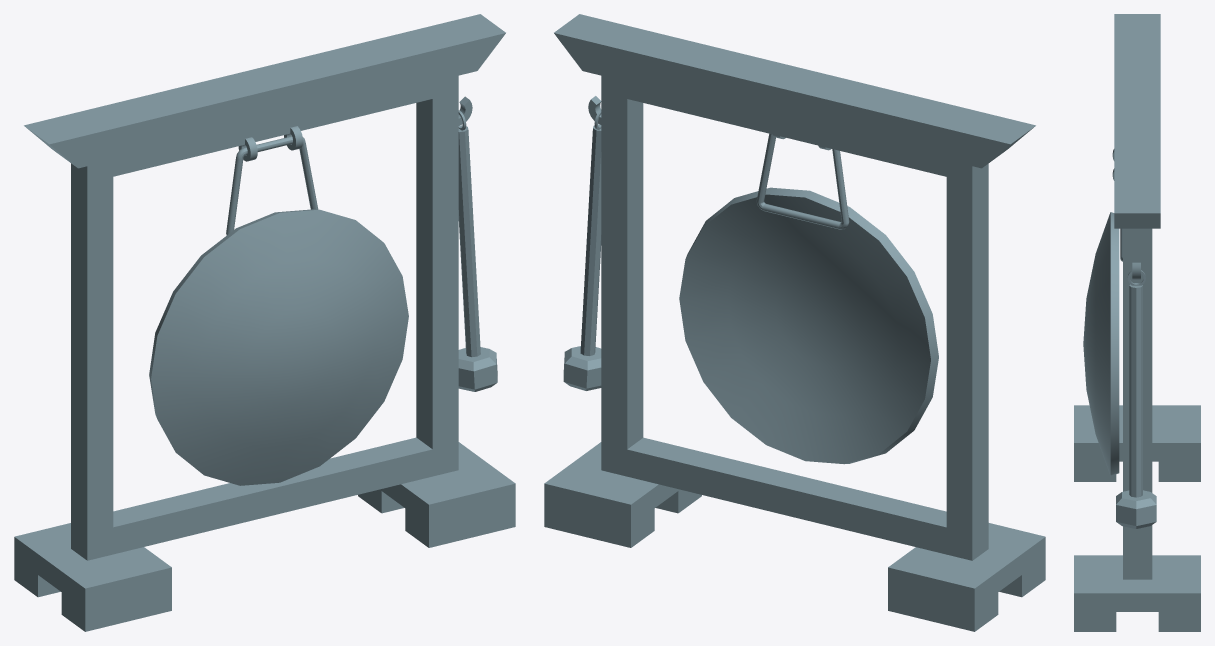
File: Gong.fbx
3 views of the same model, side by side, from view 1: azimuth 30°, elevation 25°; view 2: azimuth 150°, elevation 25°; view 3: azimuth 270°, elevation 25° (orthographic). The views are drawn at different scales.
Parts seen in each view (by area): view 1: Gong; view 2: Gong; view 3: Gong.
Part boxes in pixels (x1=…): Gong: x1=14, y1=14, x2=515, y2=631; Gong: x1=544, y1=14, x2=1045, y2=631; Gong: x1=1074, y1=14, x2=1200, y2=631.
Bounding box in the file's own units: 115 × 113 × 30.68.
